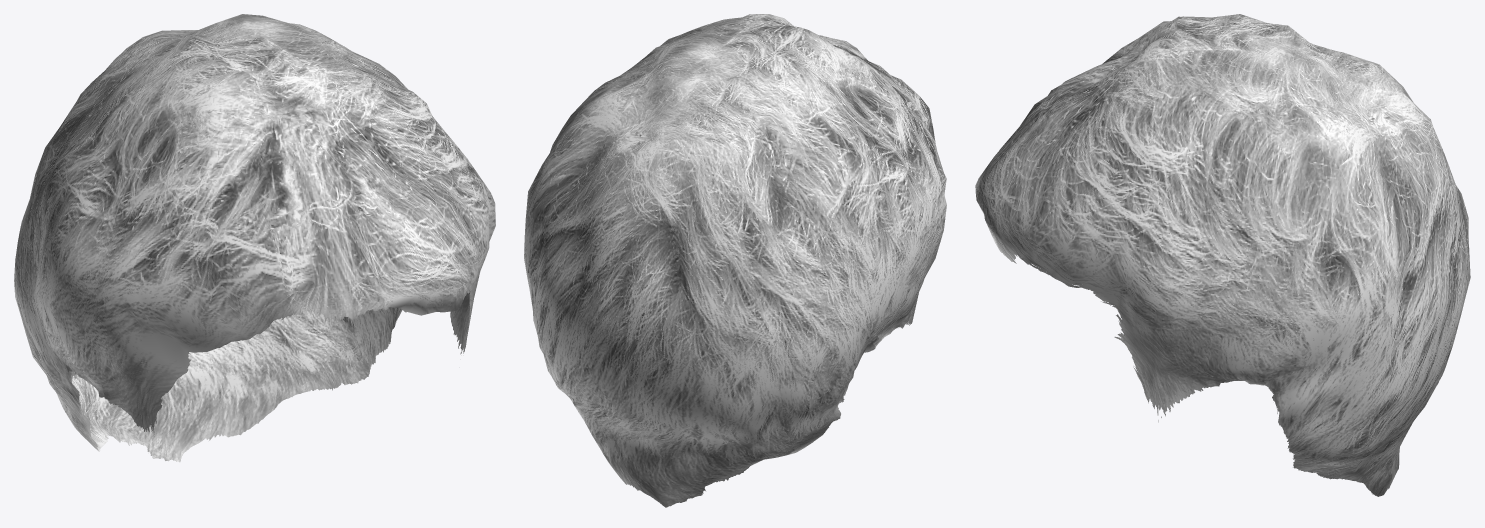
File: short.glb
The picture shows the model from 3 angles, left to right: view 1: azimuth 30°, elevation 25°; view 2: azimuth 150°, elevation 25°; view 3: azimuth 270°, elevation 25°; orthographic projection. The views are drawn at different scales.
Visible parts, largest first — view 1: short; view 2: short; view 3: short.
Boxes of the visible parts, x1,y1,x2,y2 form: short: (14, 14, 495, 462); short: (524, 14, 946, 507); short: (975, 14, 1470, 496).
Bounding box in the file's own units: 0.1686 × 0.1979 × 0.1932.
1 material, 1 textured.
